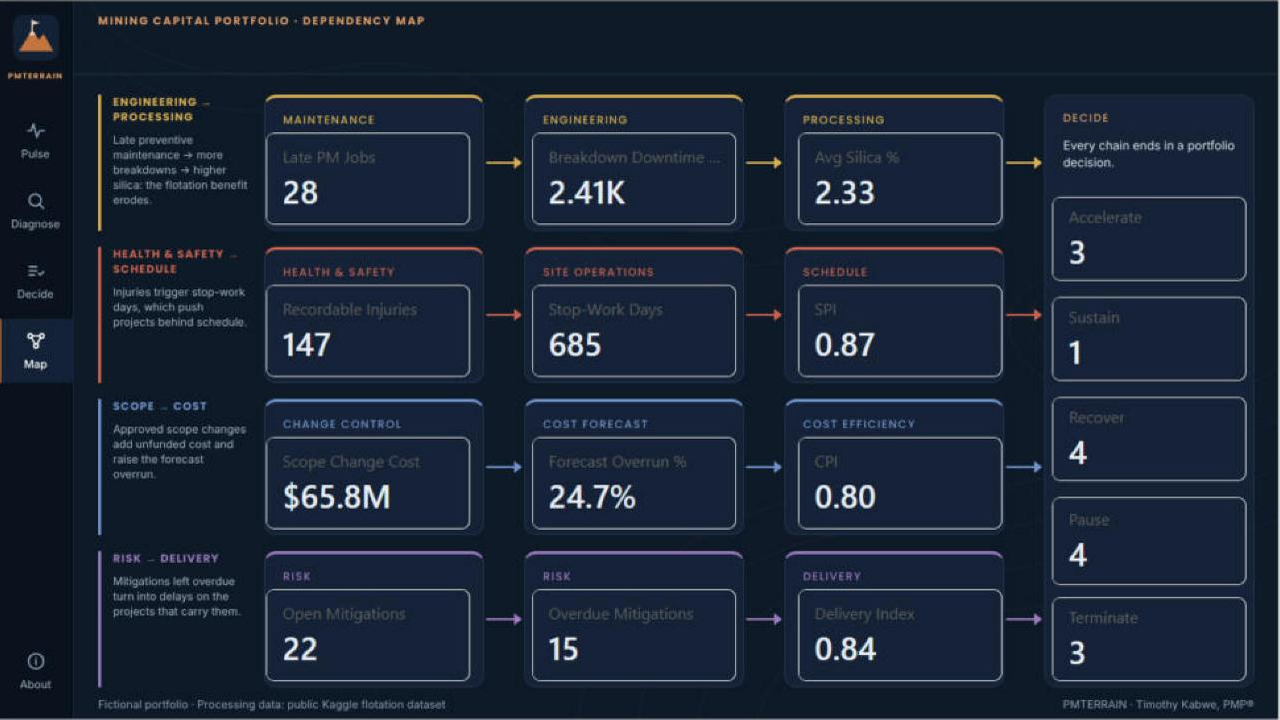

The dashboard page shown, as its layout file describes it:
{"tool":"powerbi","page":{"name":"Map","canvas":[1280,720],"ordinal":6},"visuals":[{"type":"cardVisual","fields":{"Data":["Key_MeasuresPMO.Open Mitigations"]},"box":[268,588,204,92],"z":0},{"type":"cardVisual","fields":{"Data":["Key_MeasuresPMO.Overdue Mitigations"]},"box":[534,588,204,92],"z":1000},{"type":"cardVisual","fields":{"Data":["Key_MeasuresPMO.Delivery Index"]},"box":[800,588,204,92],"z":2000},{"type":"cardVisual","fields":{"Data":["Key_MeasuresPMO.Late PM Jobs"]},"box":[268,132,204,92],"z":3000},{"type":"cardVisual","fields":{"Data":["Key_MeasuresPMO.Breakdown Downtime (h)"]},"box":[534,132,204,92],"z":4000},{"type":"cardVisual","fields":{"Data":["Key_MeasuresPMO.Avg Silica %"]},"box":[800,132,204,92],"z":5000},{"type":"cardVisual","fields":{"Data":["Key_MeasuresPMO.Recordable Injuries"]},"box":[268,284,204,92],"z":6000},{"type":"cardVisual","fields":{"Data":["Key_MeasuresPMO.Stop-Work Days"]},"box":[534,284,204,92],"z":7000},{"type":"cardVisual","fields":{"Data":["Key_MeasuresPMO.SPI"]},"box":[800,284,204,92],"z":8000},{"type":"cardVisual","fields":{"Data":["Key_MeasuresPMO.Scope Change Cost"]},"box":[268,436,204,92],"z":9000},{"type":"cardVisual","fields":{"Data":["Key_MeasuresPMO.Forecast Overrun %"]},"box":[534,436,204,92],"z":10000},{"type":"cardVisual","fields":{"Data":["Key_MeasuresPMO.CPI"]},"box":[800,436,204,92],"z":11000},{"type":"cardVisual","fields":{"Data":["Key_MeasuresPMO.Projects"]},"box":[1054,496,194,88],"z":12000},{"type":"cardVisual","fields":{"Data":["Key_MeasuresPMO.Projects"]},"box":[1054,396,194,84],"z":13000},{"type":"cardVisual","fields":{"Data":["Key_MeasuresPMO.Projects"]},"box":[1054,196,194,84],"z":14000},{"type":"cardVisual","fields":{"Data":["Key_MeasuresPMO.Projects"]},"box":[1054,296,194,84],"z":15000},{"type":"cardVisual","fields":{"Data":["Key_MeasuresPMO.Projects"]},"box":[1054,596,194,84],"z":16000},{"type":"actionButton","box":[0,110,76,64],"z":17000},{"type":"actionButton","box":[0,180,76,64],"z":18000},{"type":"actionButton","box":[0,250,76,64],"z":19000},{"type":"actionButton","box":[0,640,76,64],"z":20000},{"type":"actionButton","box":[0,320,76,64],"z":21000}]}

Visuals, with their boxes on the page's 1280x720 design canvas (x1, y1, x2, y2). These are canvas units, not pixel positions in the 1280x720 screenshot, which may show the page scaled, cropped or inside an application window:
cardVisual - Key_MeasuresPMO.Open Mitigations: 268 588 472 680
cardVisual - Key_MeasuresPMO.Overdue Mitigations: 534 588 738 680
cardVisual - Key_MeasuresPMO.Delivery Index: 800 588 1004 680
cardVisual - Key_MeasuresPMO.Late PM Jobs: 268 132 472 224
cardVisual - Key_MeasuresPMO.Breakdown Downtime (h): 534 132 738 224
cardVisual - Key_MeasuresPMO.Avg Silica %: 800 132 1004 224
cardVisual - Key_MeasuresPMO.Recordable Injuries: 268 284 472 376
cardVisual - Key_MeasuresPMO.Stop-Work Days: 534 284 738 376
cardVisual - Key_MeasuresPMO.SPI: 800 284 1004 376
cardVisual - Key_MeasuresPMO.Scope Change Cost: 268 436 472 528
cardVisual - Key_MeasuresPMO.Forecast Overrun %: 534 436 738 528
cardVisual - Key_MeasuresPMO.CPI: 800 436 1004 528
cardVisual - Key_MeasuresPMO.Projects: 1054 496 1248 584
cardVisual - Key_MeasuresPMO.Projects: 1054 396 1248 480
cardVisual - Key_MeasuresPMO.Projects: 1054 196 1248 280
cardVisual - Key_MeasuresPMO.Projects: 1054 296 1248 380
cardVisual - Key_MeasuresPMO.Projects: 1054 596 1248 680
actionButton: 0 110 76 174
actionButton: 0 180 76 244
actionButton: 0 250 76 314
actionButton: 0 640 76 704
actionButton: 0 320 76 384
